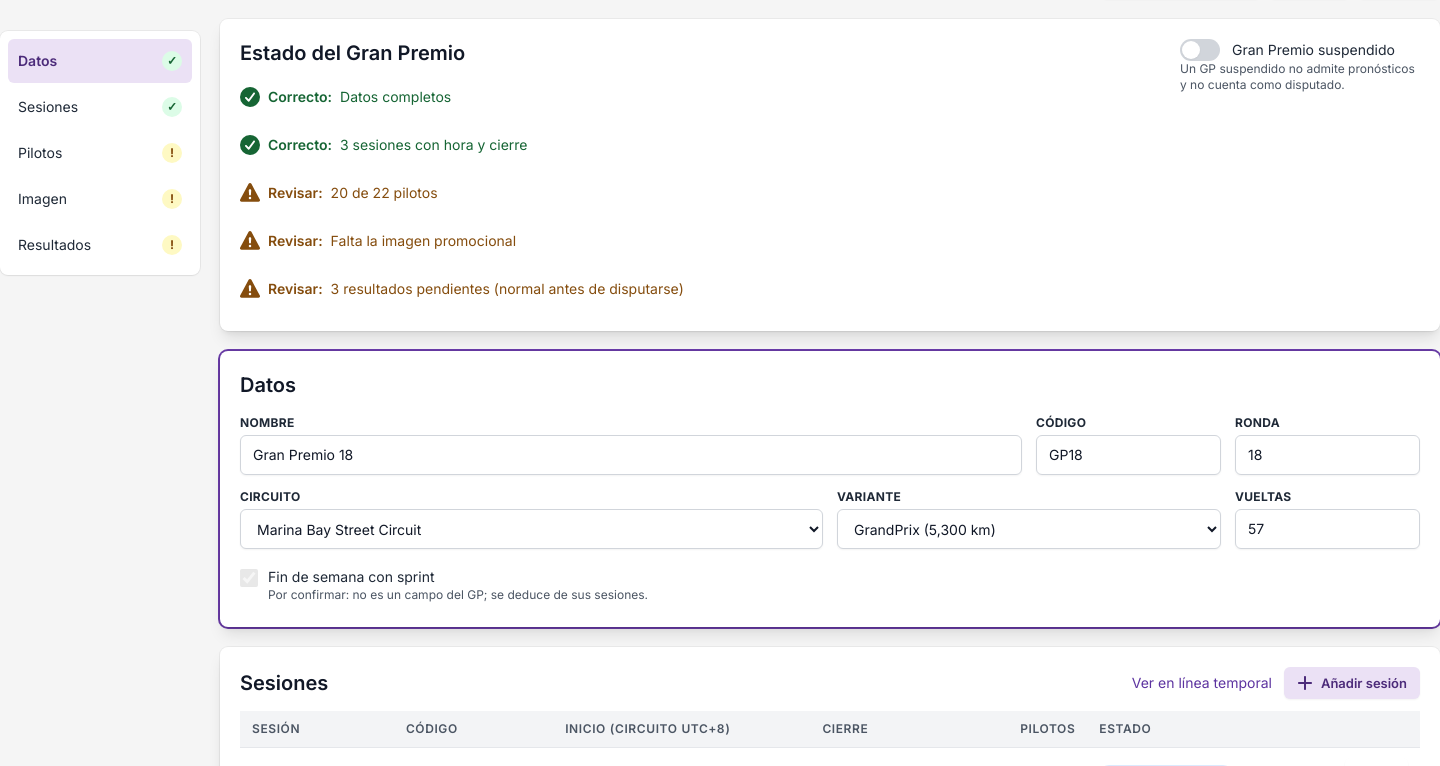
Test: admin GP edit (M3) › validates before saving
The width and height of the screenshot is (1440, 766).
Replace the text in the field labelled "Ronda" with "0": coordinates (1328, 455) [1235,435,1420,475]
(page scrolled)
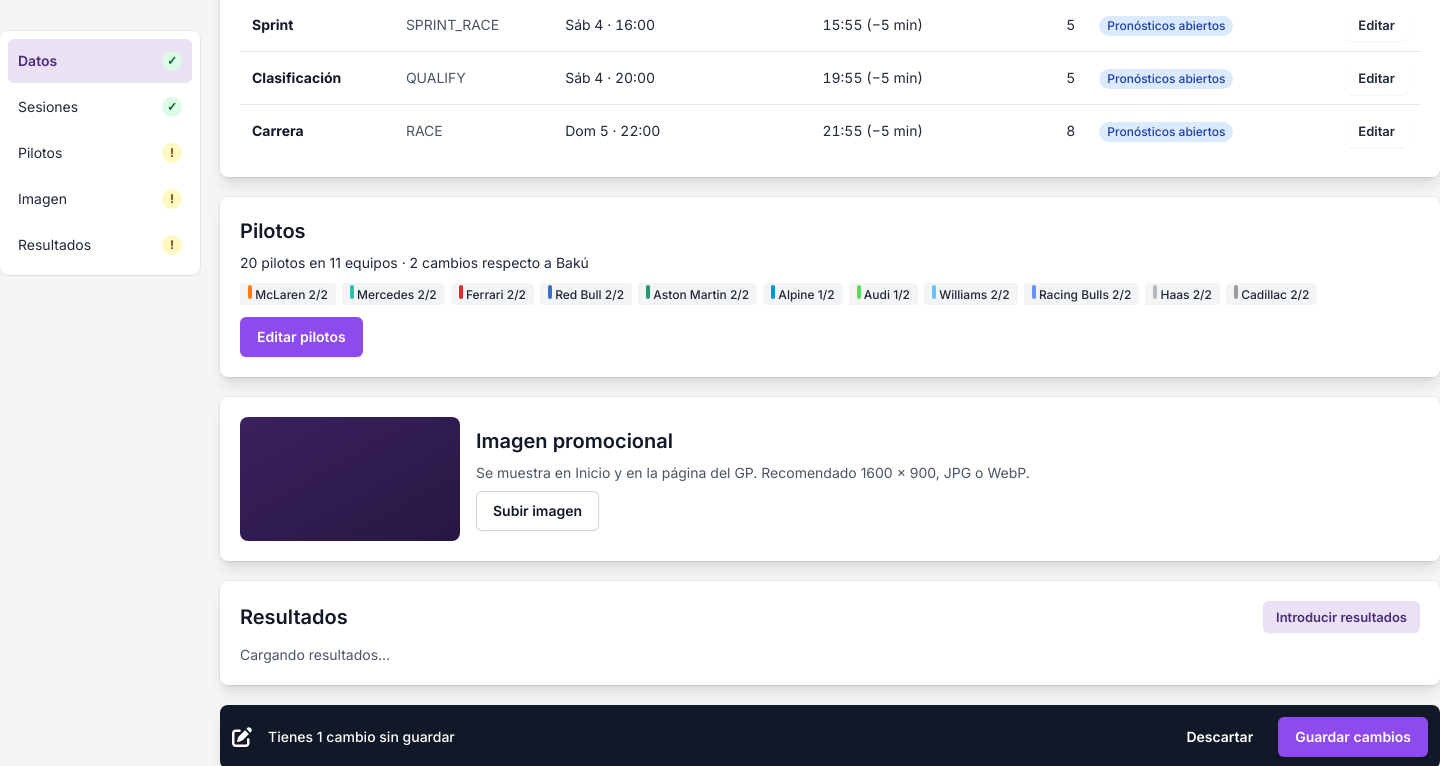
Click the button "Guardar cambios": coordinates (1353, 737) [1278,717,1428,757]
(page scrolled)
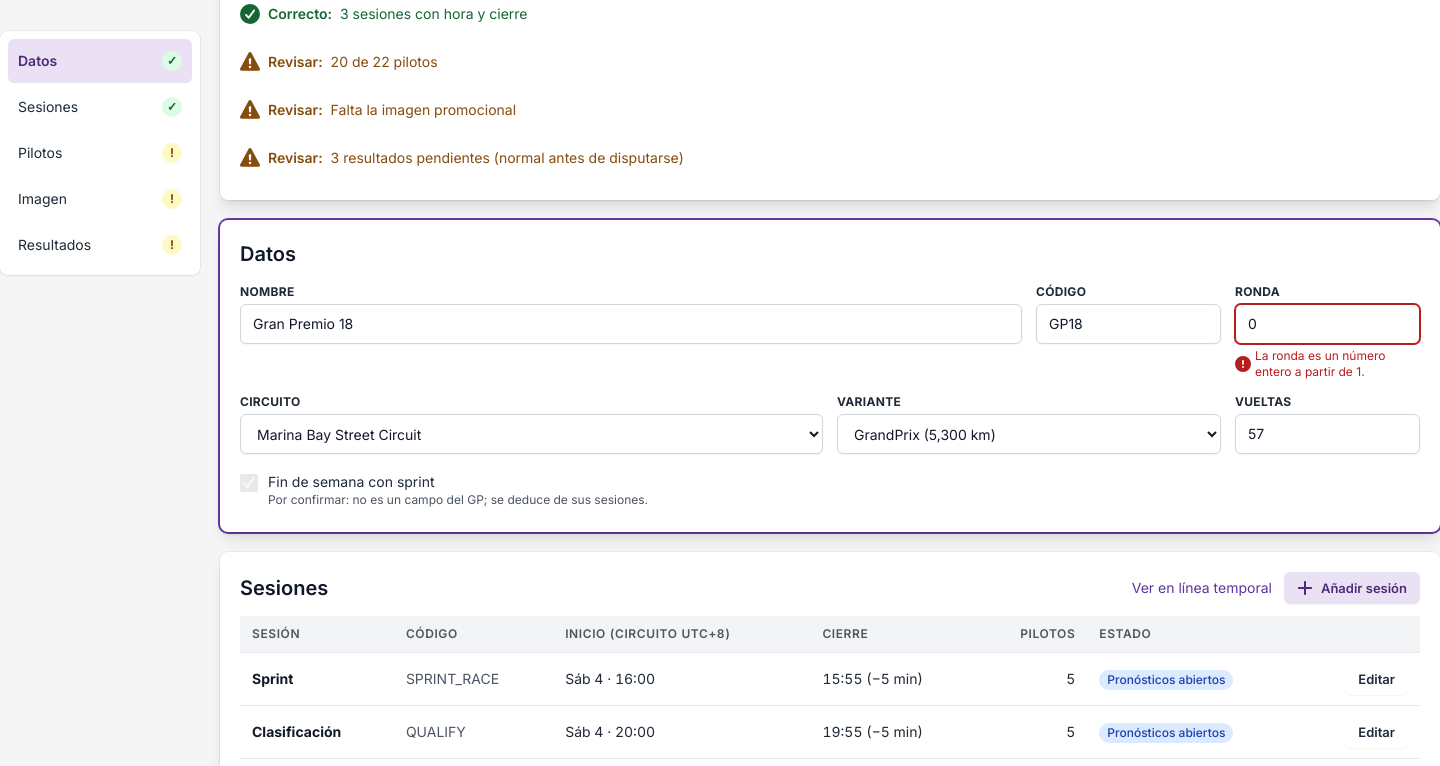
Expected: the text "La ronda es un número entero a partir de 1." is shown, [1255,348,1385,379]
